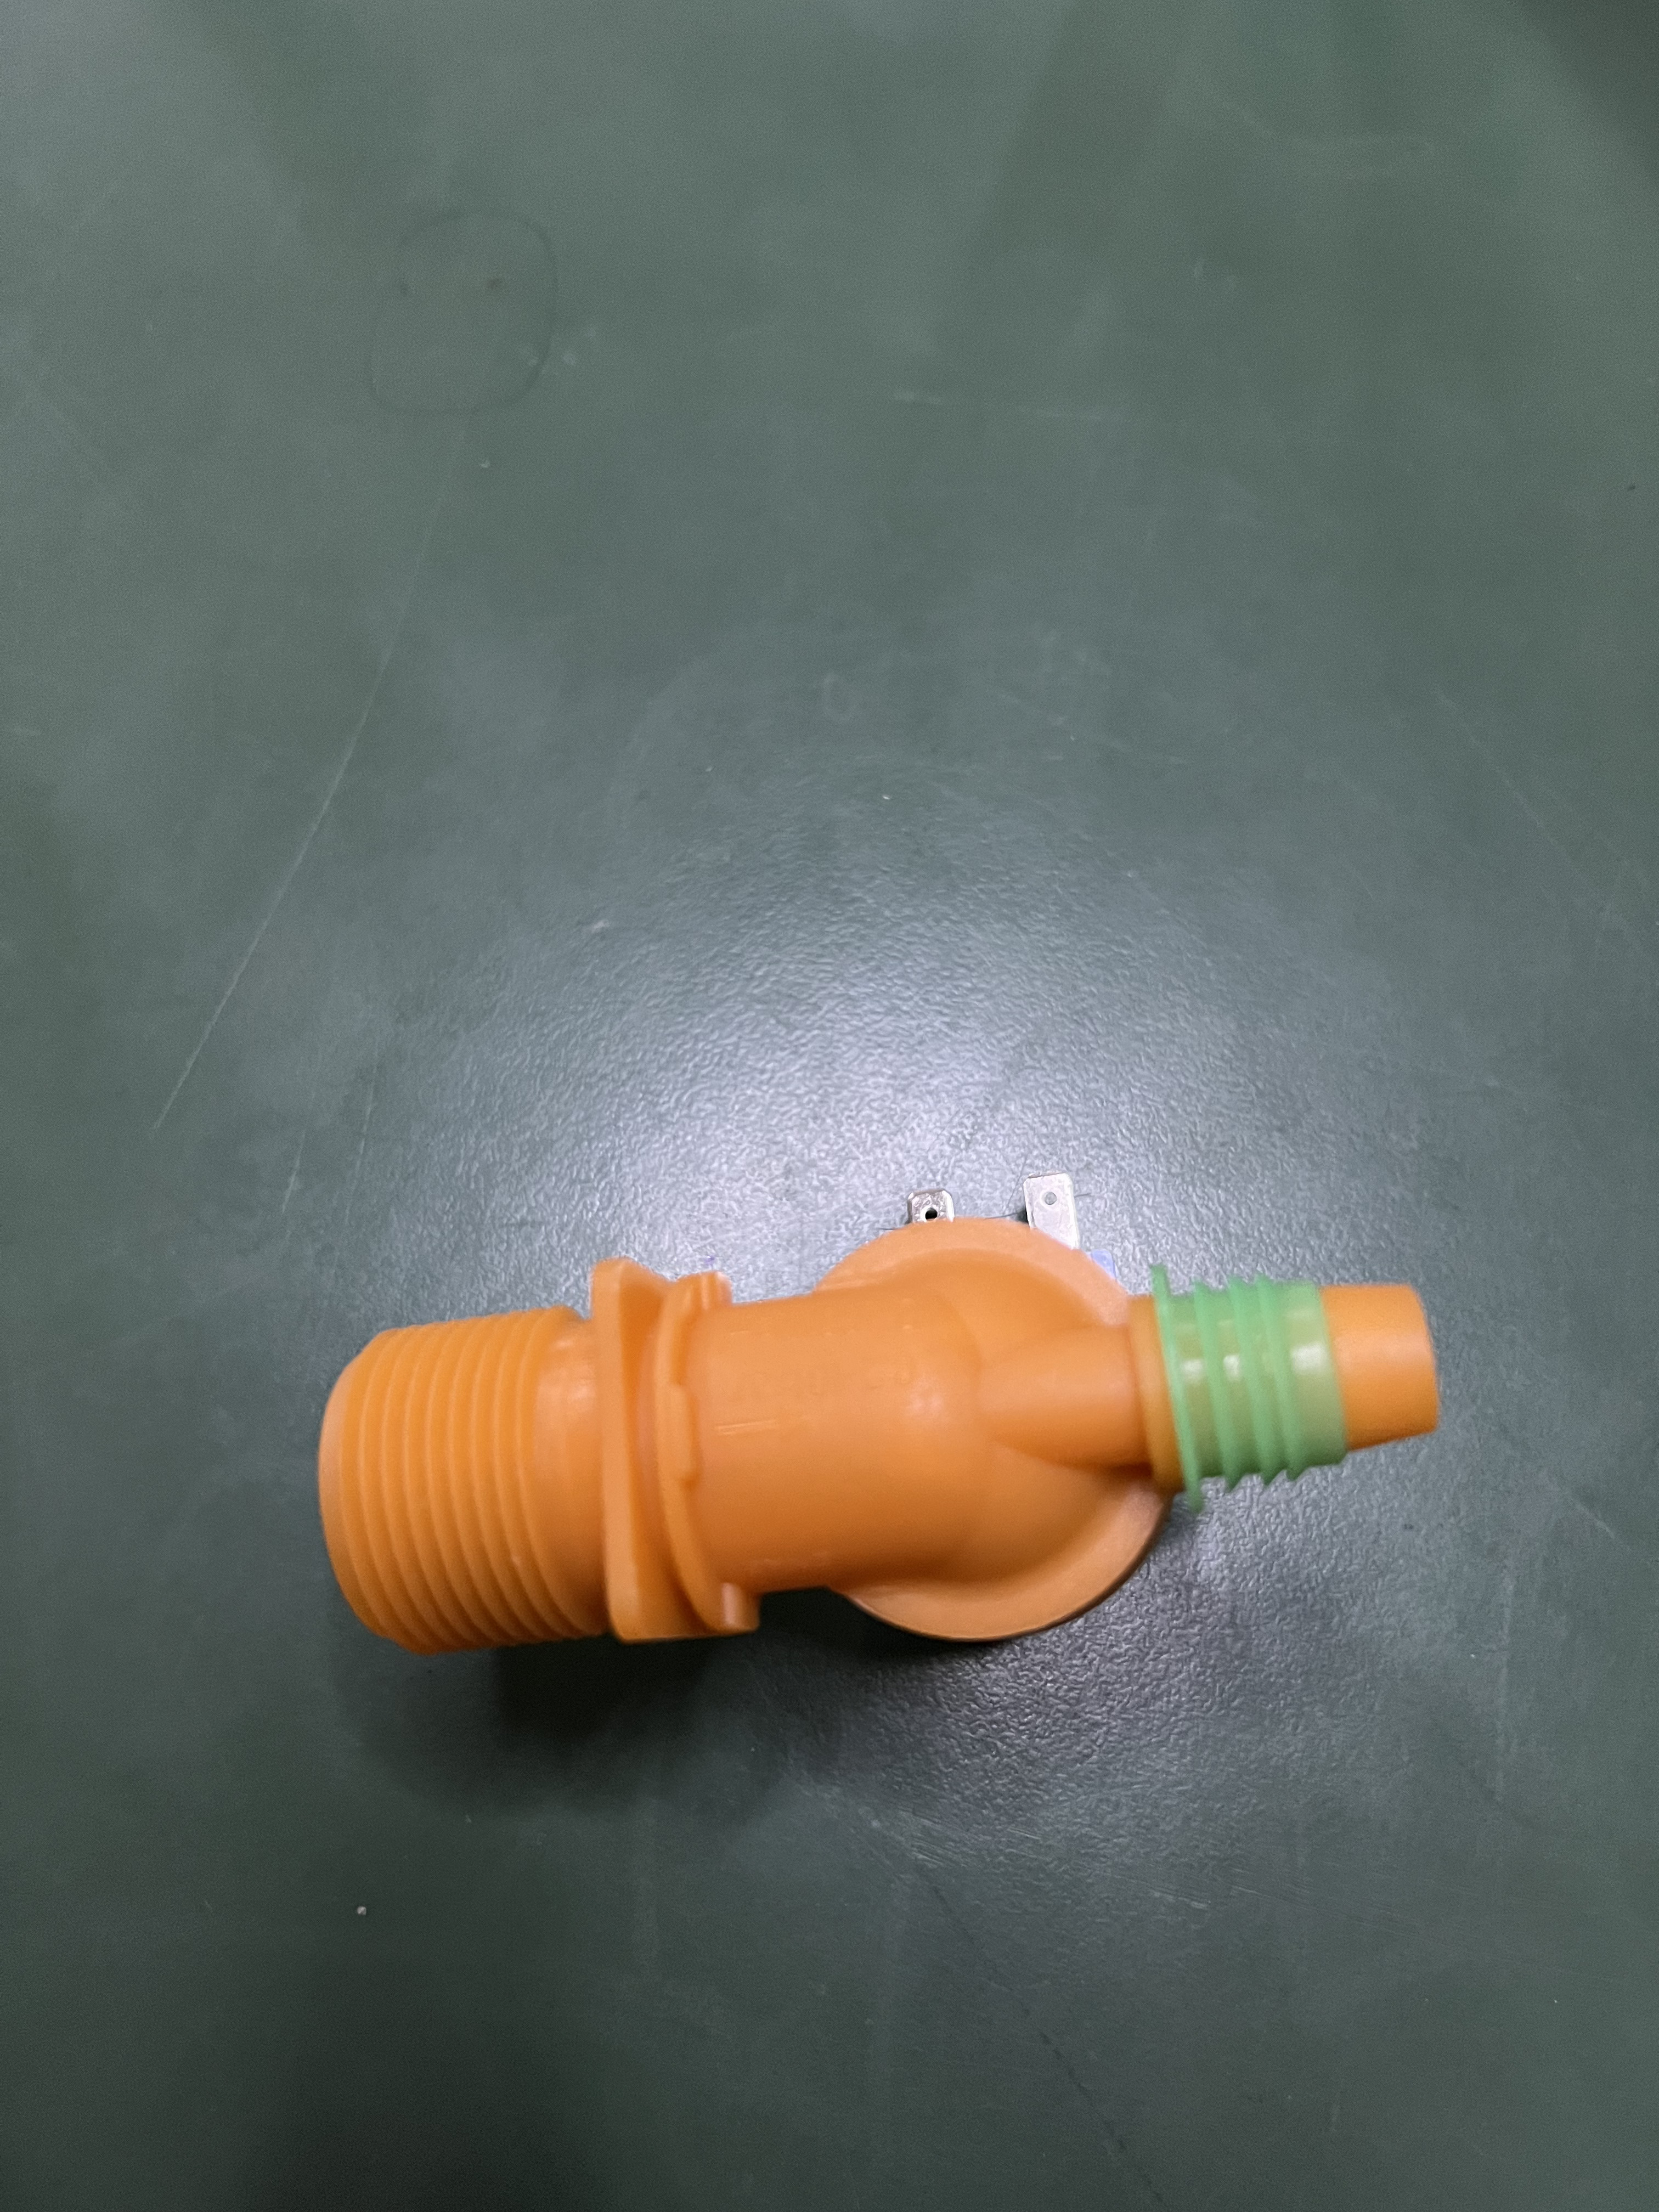ss_inlet_valves: (363, 1142, 1463, 1735)
